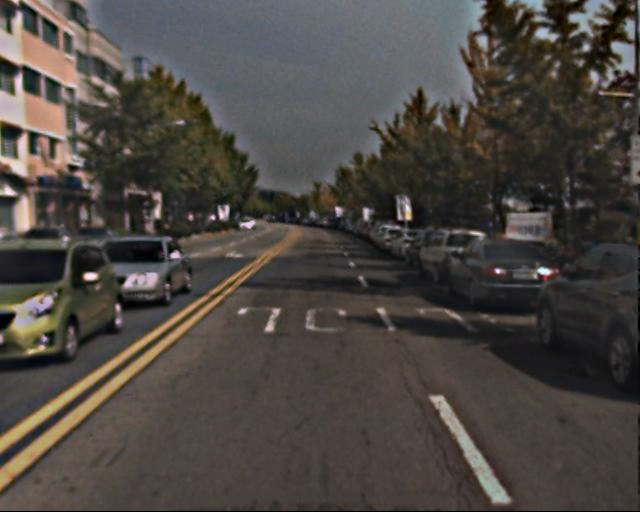person: (575, 229, 598, 284)
